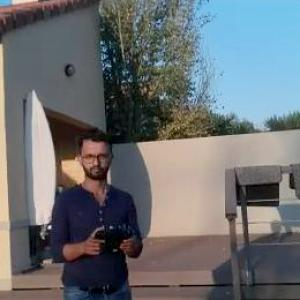follow: (46, 123, 150, 299)
